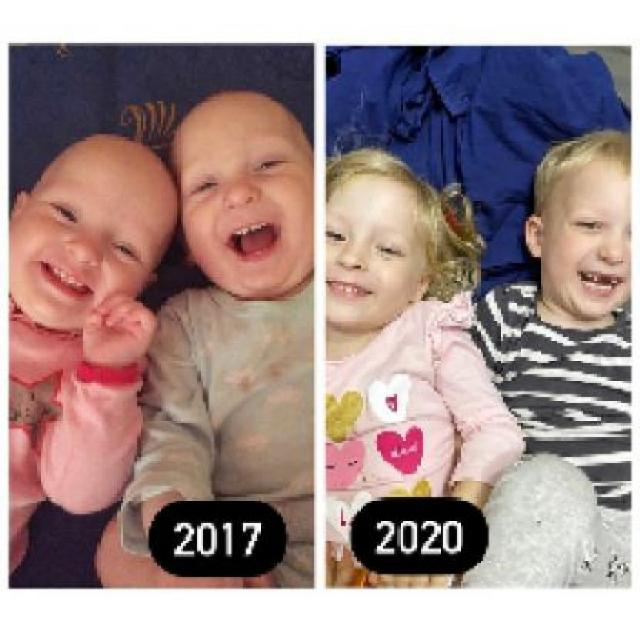child: (118, 90, 316, 587), (327, 147, 522, 587), (10, 134, 179, 580), (473, 129, 636, 585)
